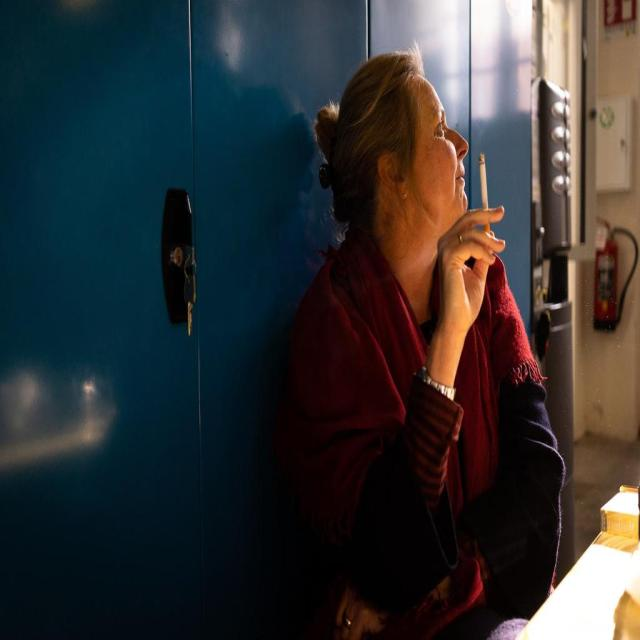smoking: (321, 53, 511, 343)
